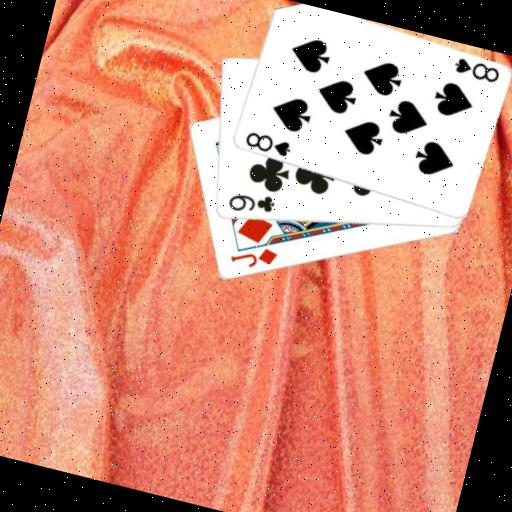8S: (240, 127, 295, 161), (449, 53, 503, 86)
9C: (223, 184, 279, 222)
JD: (226, 237, 281, 276)
